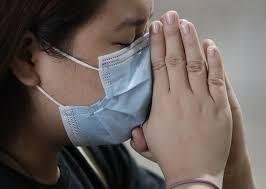Wearing Mask: (1, 0, 167, 157)
